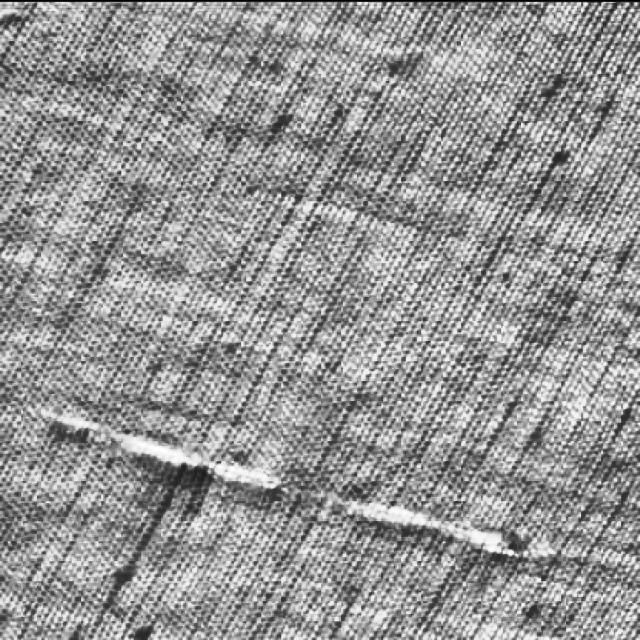thread_error: (27, 383, 563, 570)
